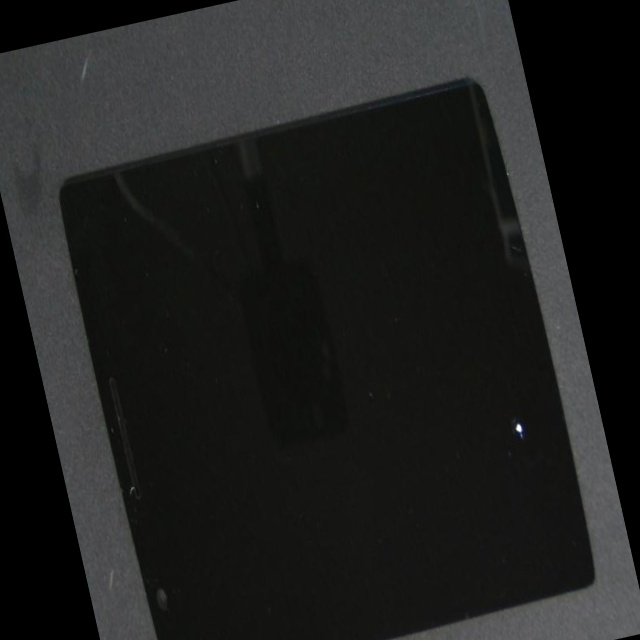stain: (222, 132, 640, 640)
